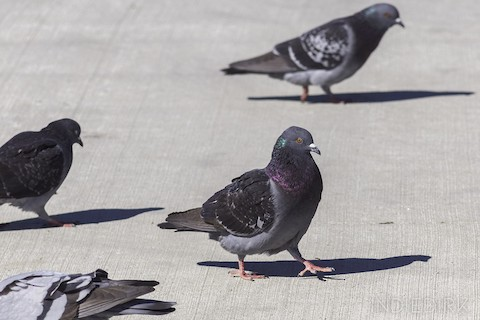pigeon: (153, 129, 339, 282), (214, 4, 410, 107), (5, 111, 88, 234), (6, 263, 180, 315)
